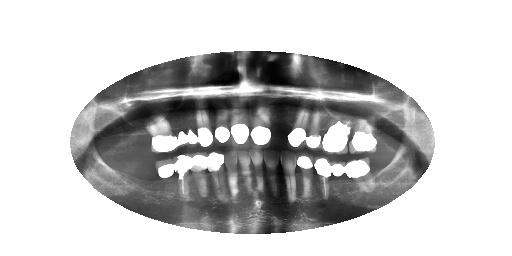i10healthy: (221, 147, 241, 201)
i11healthy: (204, 145, 230, 204)
i12healthy: (186, 139, 211, 202)
i13healthy: (171, 144, 196, 206)
i14loss: (154, 149, 180, 203)
i2healthy: (344, 157, 377, 198)
i3loss: (327, 153, 354, 201)
i4healthy: (311, 151, 333, 208)
i5healthy: (295, 147, 314, 208)
i6healthy: (277, 145, 303, 209)
i7healthy: (262, 142, 281, 203)
i8healthy: (248, 140, 267, 199)
i9healthy: (235, 144, 256, 202)
u10healthy: (210, 98, 231, 146)
u11healthy: (196, 98, 216, 153)
u12loss: (174, 94, 197, 152)
u13healthy: (143, 102, 180, 156)
u3healthy: (347, 111, 380, 161)
u4healthy: (320, 101, 354, 159)
u5healthy: (303, 101, 325, 154)
u6healthy: (286, 100, 311, 151)
u7loss: (268, 102, 293, 149)
u8healthy: (247, 98, 273, 149)
u9healthy: (227, 97, 252, 154)
